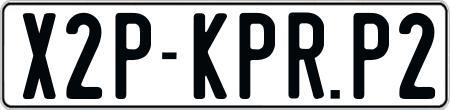2: (398, 11, 436, 102), (65, 11, 101, 97)
K: (191, 11, 229, 100)
P: (112, 11, 154, 98), (236, 11, 278, 98), (352, 13, 393, 101)
R: (286, 10, 324, 103)
X: (20, 10, 56, 100)
